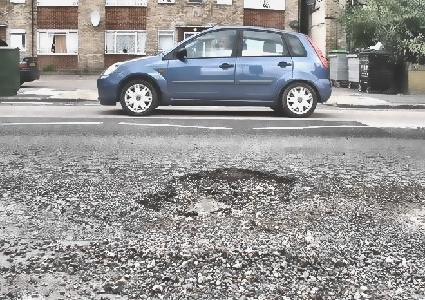pothole: (137, 165, 298, 219)
